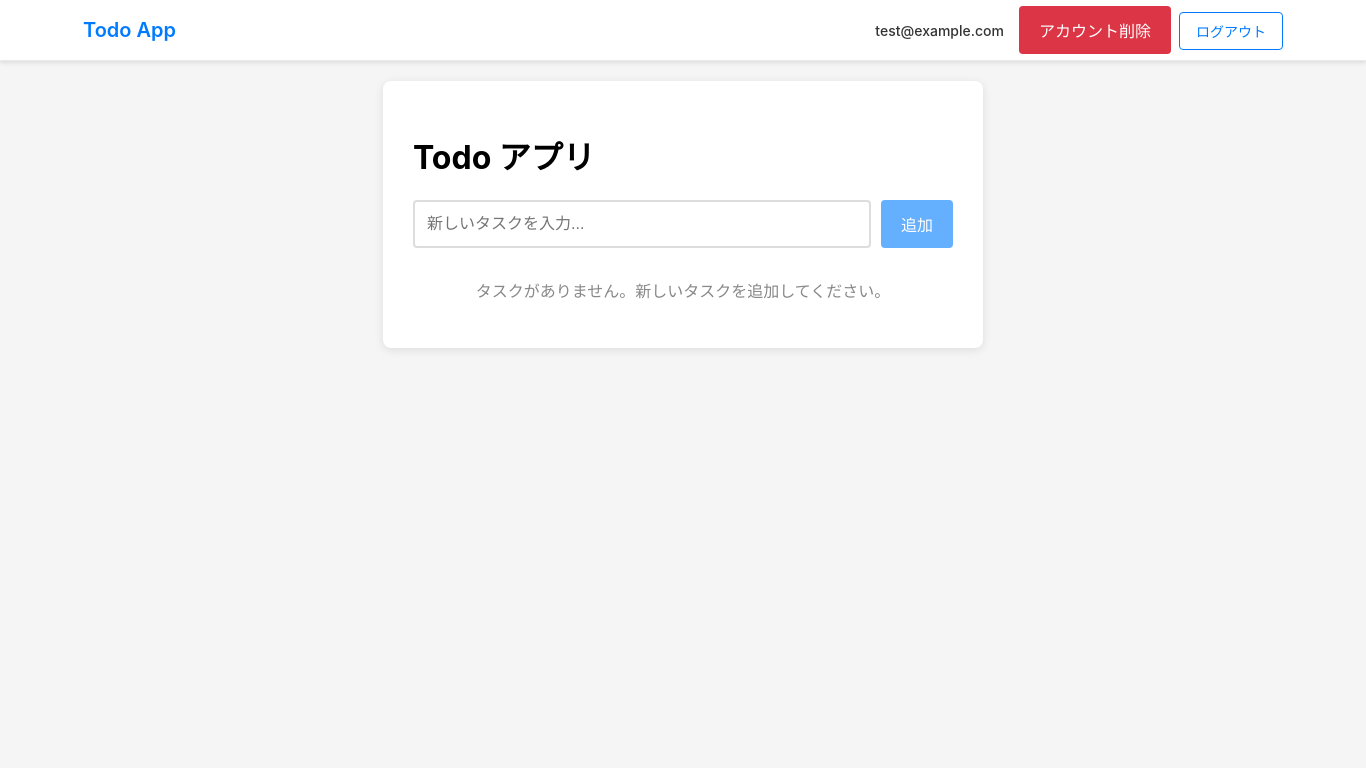
Scenario: 認証フロー統合テスト › ログアウトフローが正常に動作する
This screenshot has width=1366, height=768.
Expected: the heading "Todo アプリ" is shown, x1=413 y1=138 x2=595 y2=177
// ログアウトボタンをクリック
Click the button "ログアウト".
click(1231, 31)  # box x1=1179 y1=12 x2=1283 y2=50
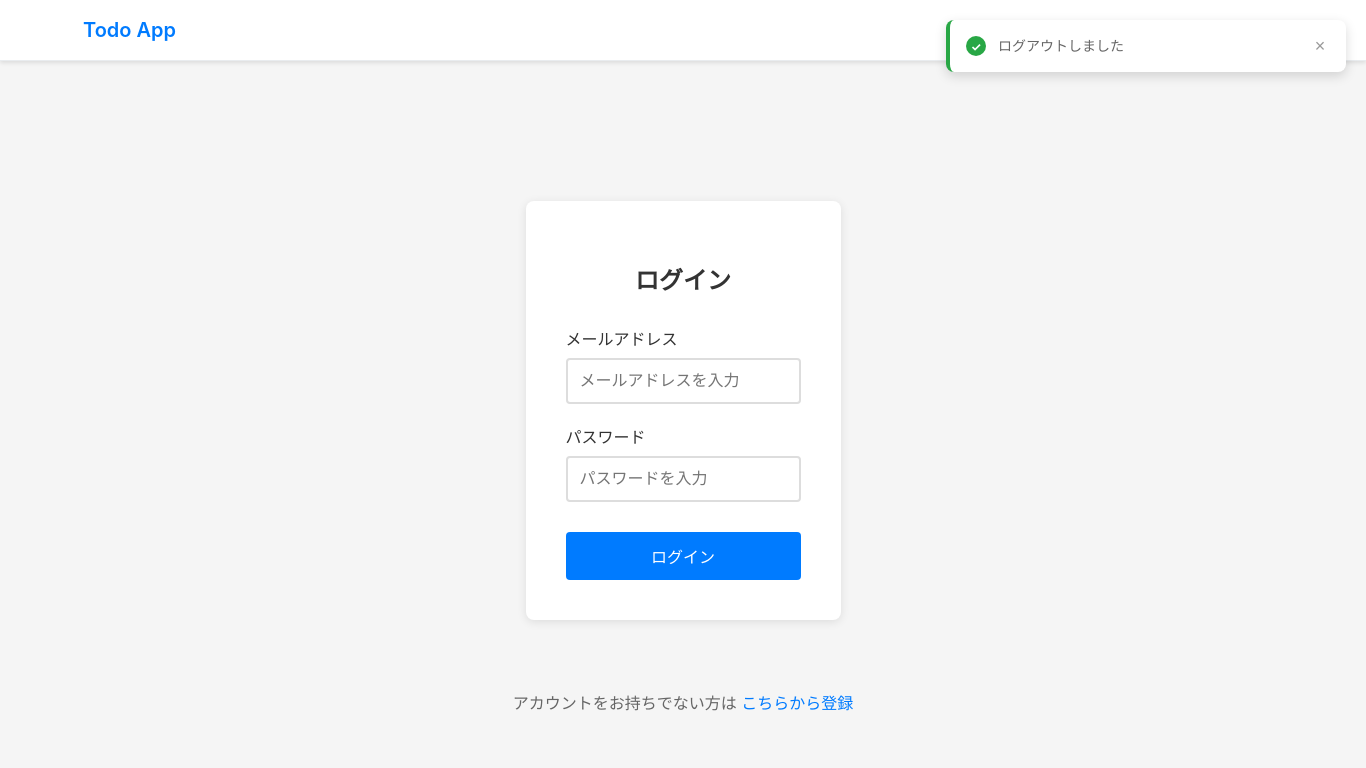
Result: the heading "ログイン" is shown at x1=635 y1=266 x2=731 y2=295
